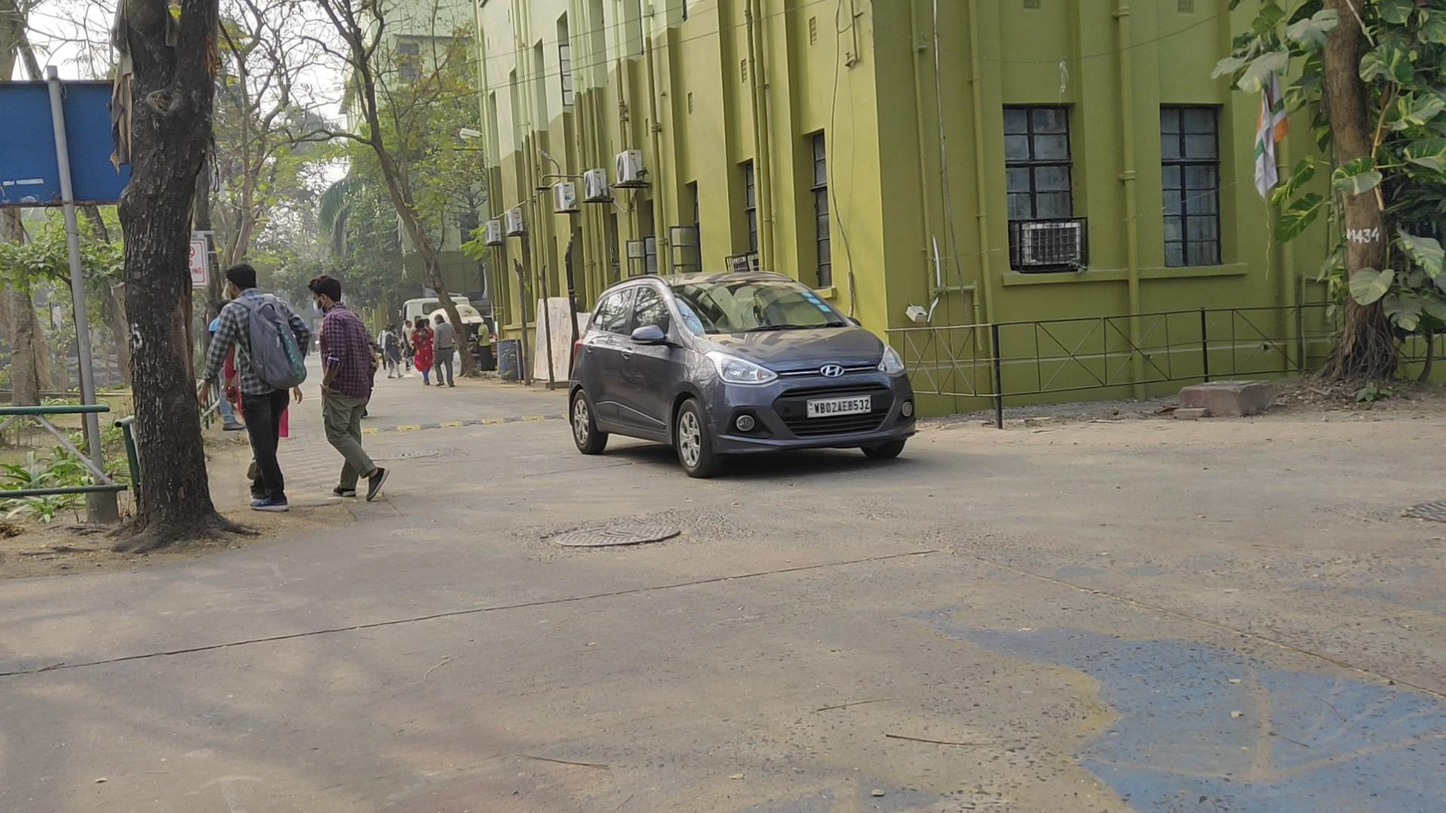car: (569, 271, 916, 479)
